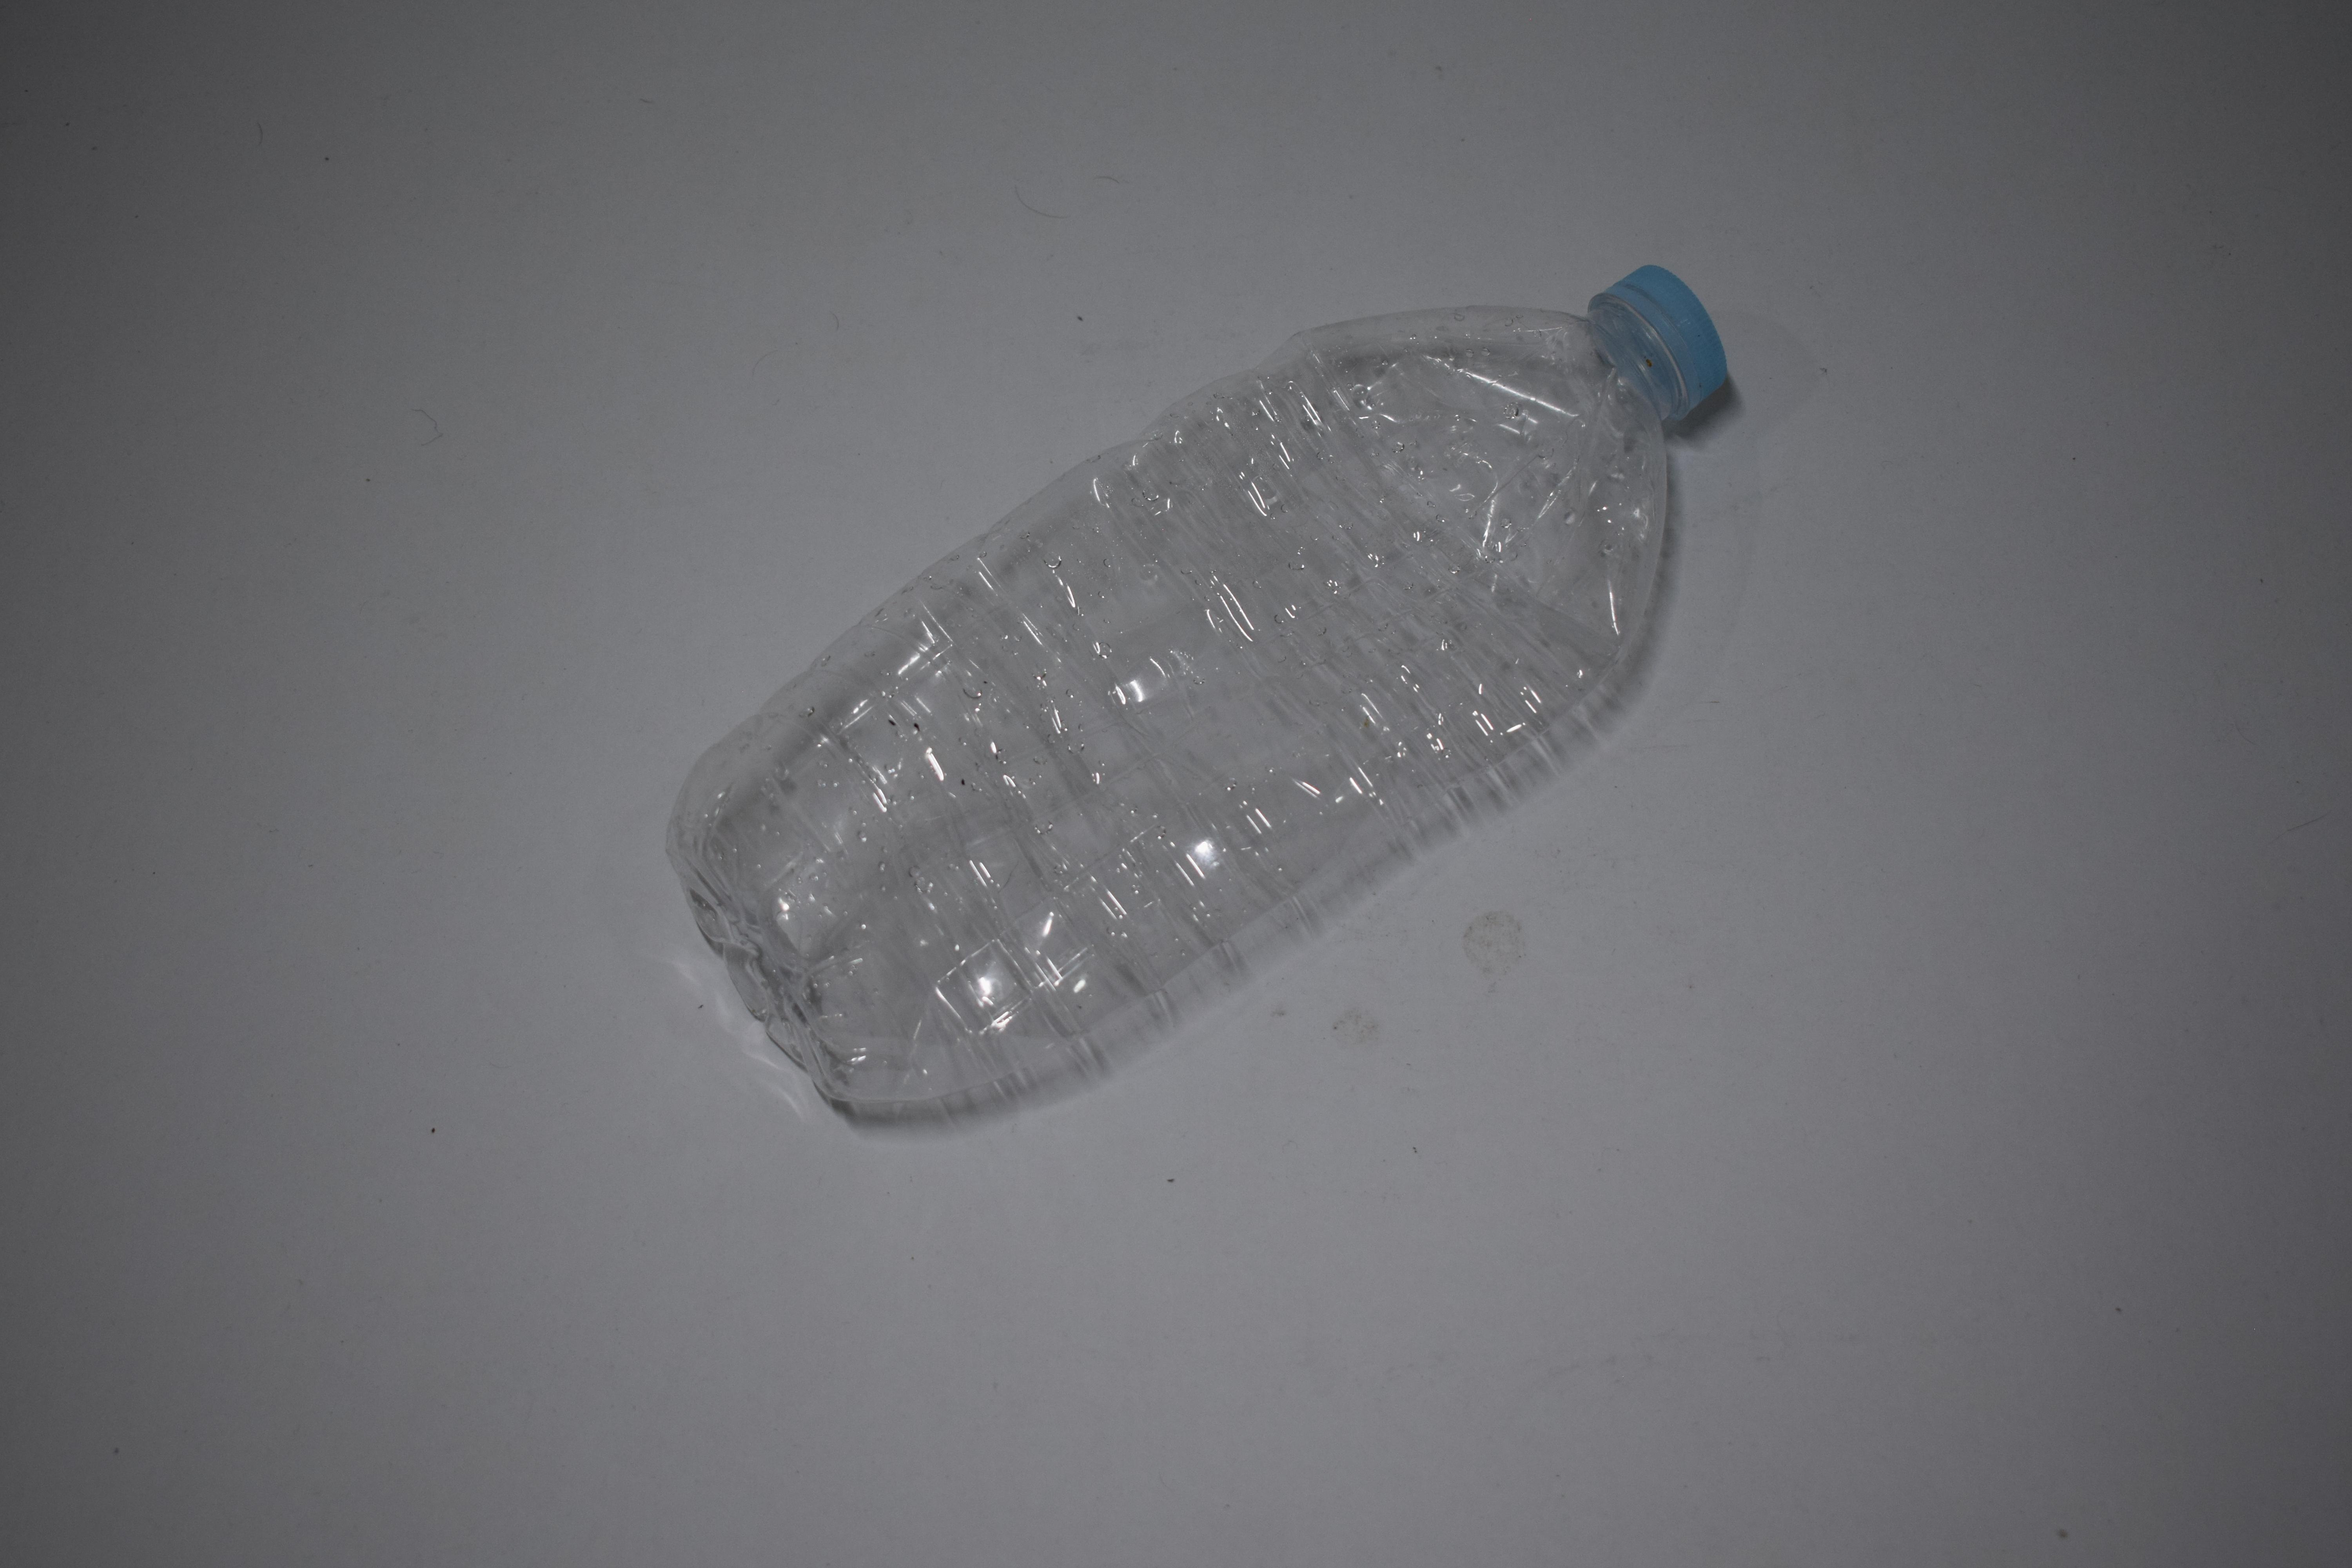bottle: (0, 646, 506, 740)
